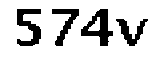4: (82, 8, 114, 53)
5: (8, 6, 45, 51)
7: (49, 5, 83, 51)
v: (115, 15, 149, 49)
